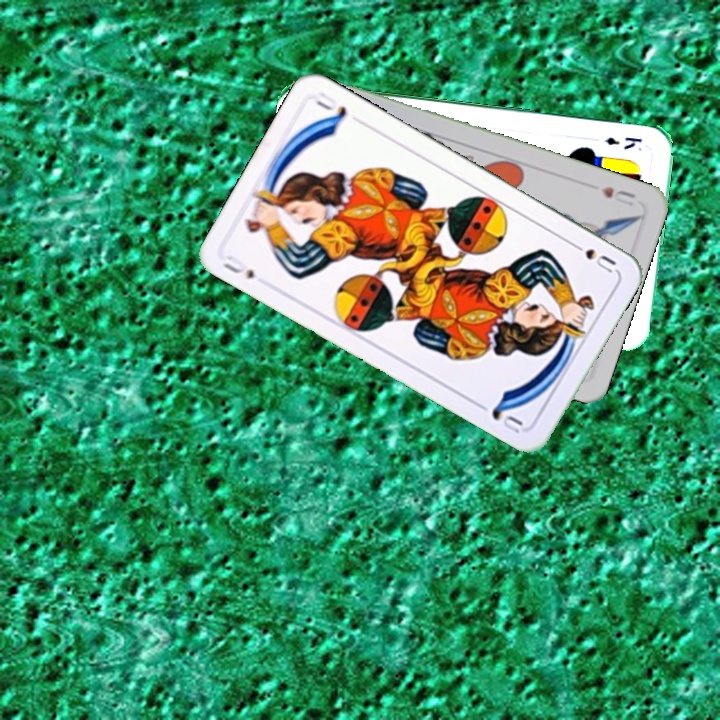EK: (601, 133, 645, 152)
HU: (596, 182, 638, 209)
SU: (565, 237, 619, 276), (218, 251, 258, 282)
